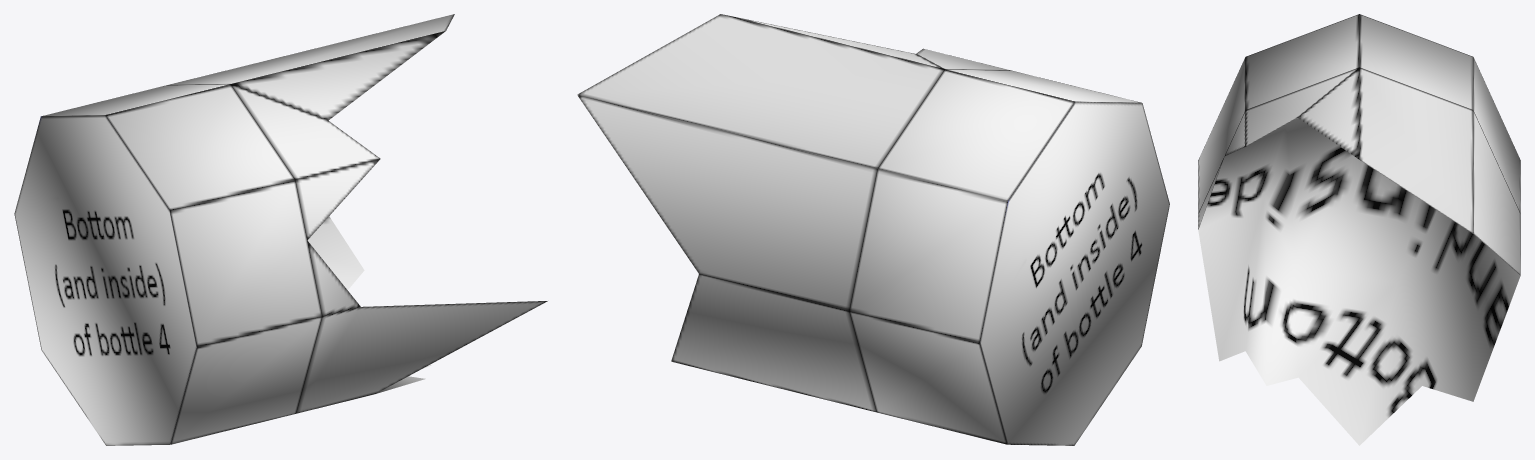
File: Bottle04_bottom.fbx
The picture shows the model from 3 angles, left to right: view 1: azimuth 30°, elevation 25°; view 2: azimuth 150°, elevation 25°; view 3: azimuth 270°, elevation 25°; orthographic projection. The views are drawn at different scales.
Visible parts, largest first — view 1: Bottle_04_bottom; view 2: Bottle_04_bottom; view 3: Bottle_04_bottom.
Part boxes in pixels (left/top/right/bottom): Bottle_04_bottom: left=14, top=14, right=547, bottom=445; Bottle_04_bottom: left=577, top=14, right=1169, bottom=445; Bottle_04_bottom: left=1198, top=14, right=1520, bottom=445.
Bounding box in the file's own units: 10.82 × 8.29 × 8.26.
Materials: 1 (1 with a texture image).
